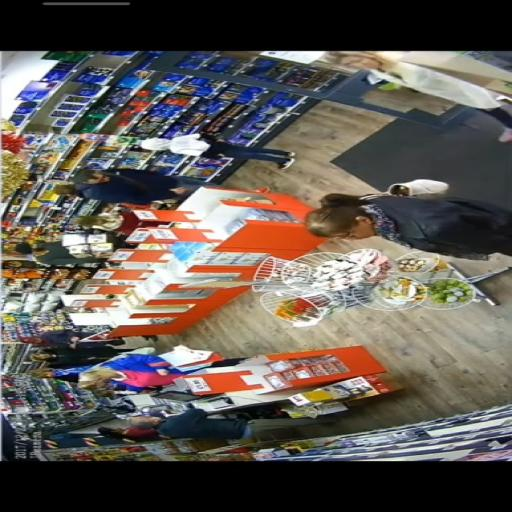workers: (32, 352, 240, 384), (64, 168, 202, 206), (130, 406, 275, 442)
